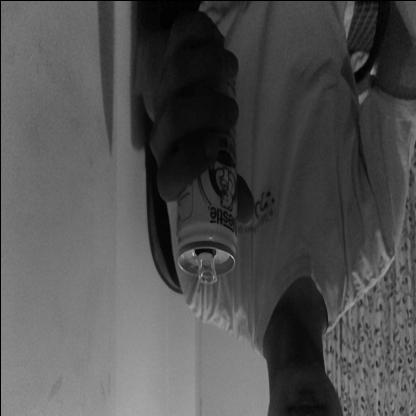alumunium_can: (176, 49, 236, 285)
